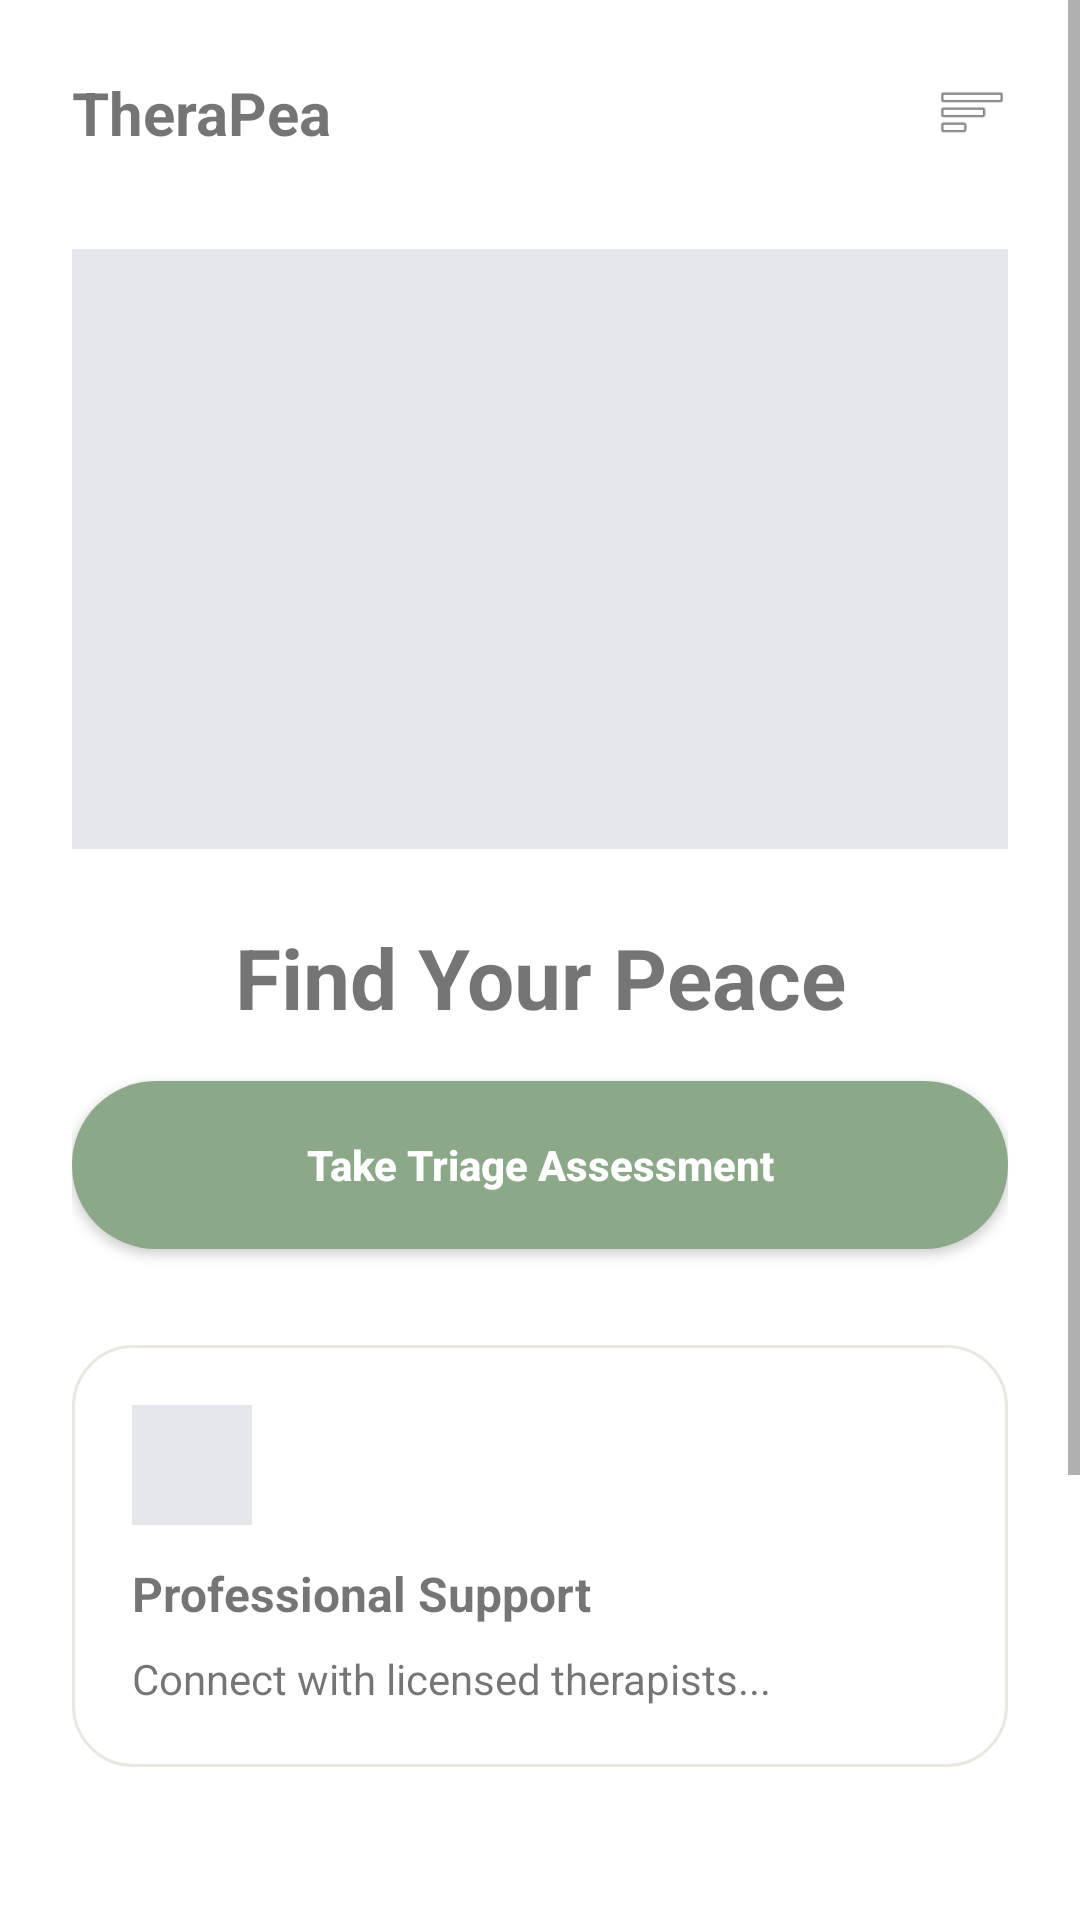

Icons on this 1080x1920 Android screen, each with its box as (x1, y1, x2, y2):
Menu: (941, 92, 1003, 133)
